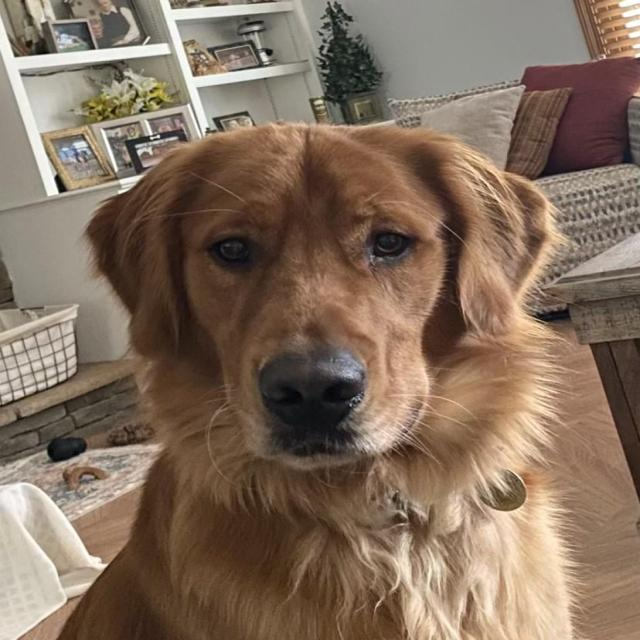golden_retriever_dog: (74, 96, 570, 519)
